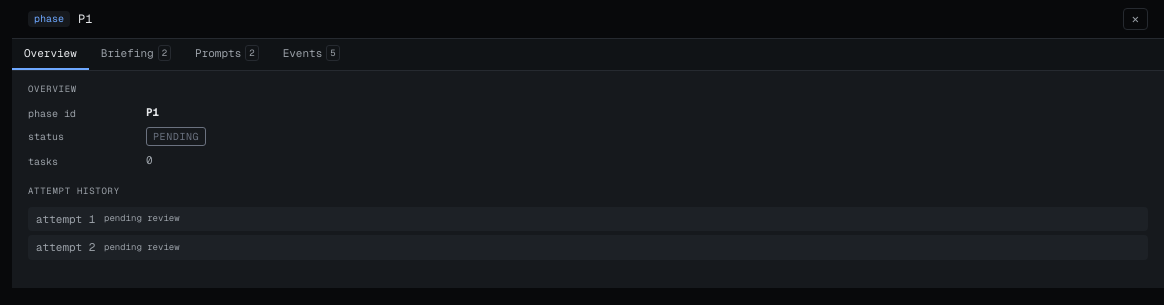
Test: Inspector - tab switching › switches to Prompts tab on click
Click the button with aria-label "Prompts tab".
click(227, 54)  # box left=183, top=39, right=271, bottom=70
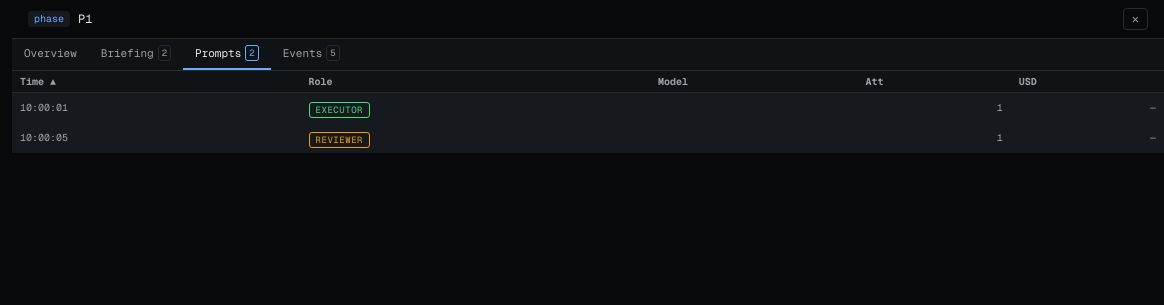
Check: the element with test id "prompts-tab" is shown, box left=12, top=70, right=1163, bottom=152
